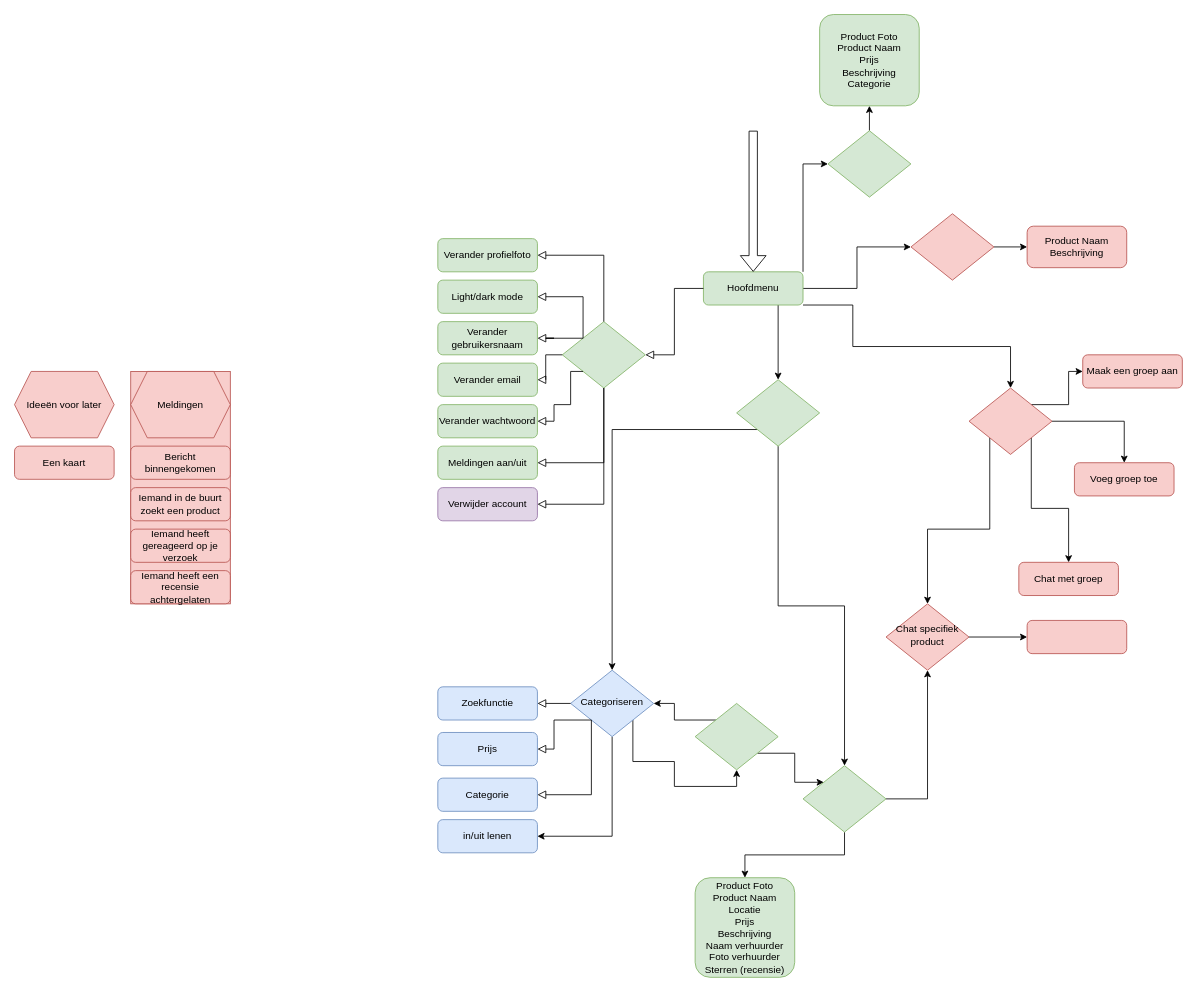
This 1197x992 diagram has some shape labels left out. Each missing label, with the centre of its shape:
"Account" belongs at (x=603, y=354).
"Chatmenu" belongs at (x=1010, y=420).
"Laat de producten zien" belongs at (x=736, y=736).
"Product" belongs at (x=844, y=798).
"Producten in feed" belongs at (x=778, y=412).
"Sterren achterlaten" belongs at (x=1076, y=637).
"Upload product" belongs at (x=869, y=163).
"Verzoek product" belongs at (x=952, y=246).
